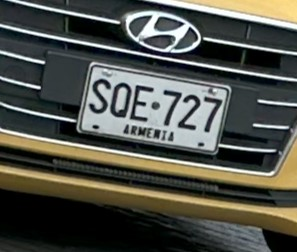number plate: (0, 0, 296, 206), (77, 62, 230, 154)
